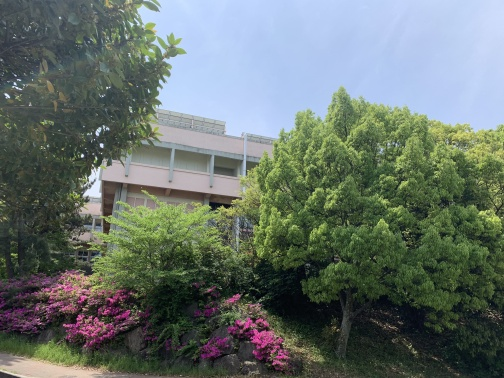College Of Education: (98, 96, 287, 256)
